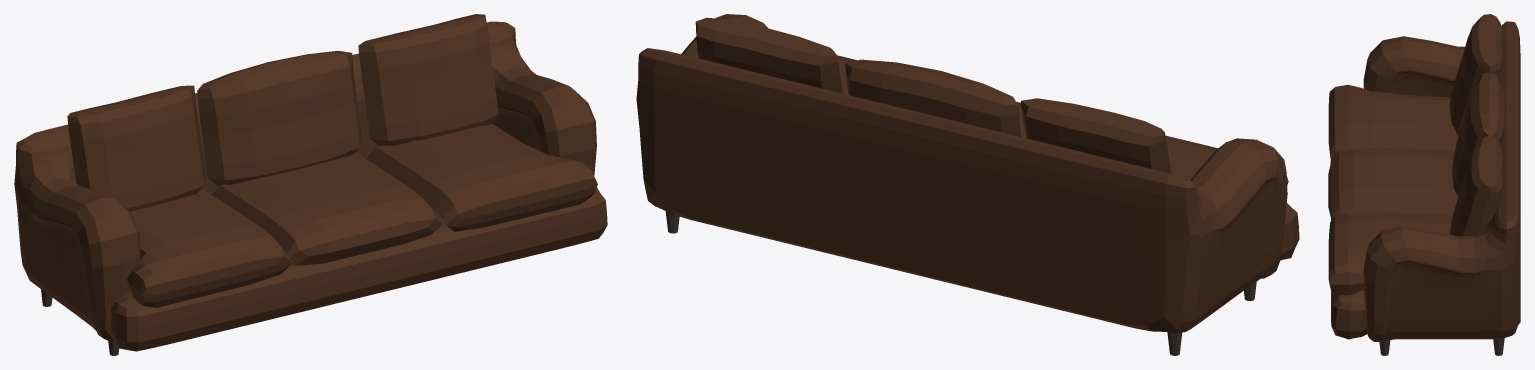
The model's file is Sofa2.glb.
3 renders of one model, left to right at view 1: azimuth 30°, elevation 25°; view 2: azimuth 150°, elevation 25°; view 3: azimuth 270°, elevation 25°, orthographic. The views are drawn at different scales.
Parts seen in each view (by area): view 1: Sofa2; view 2: Sofa2; view 3: Sofa2.
Boxes of the visible parts, left/top/right/bottom form: Sofa2: left=14, top=14, right=607, bottom=355; Sofa2: left=636, top=14, right=1299, bottom=355; Sofa2: left=1328, top=14, right=1520, bottom=355.
Size of the model in its own units: 4 by 1.45 by 1.54.
